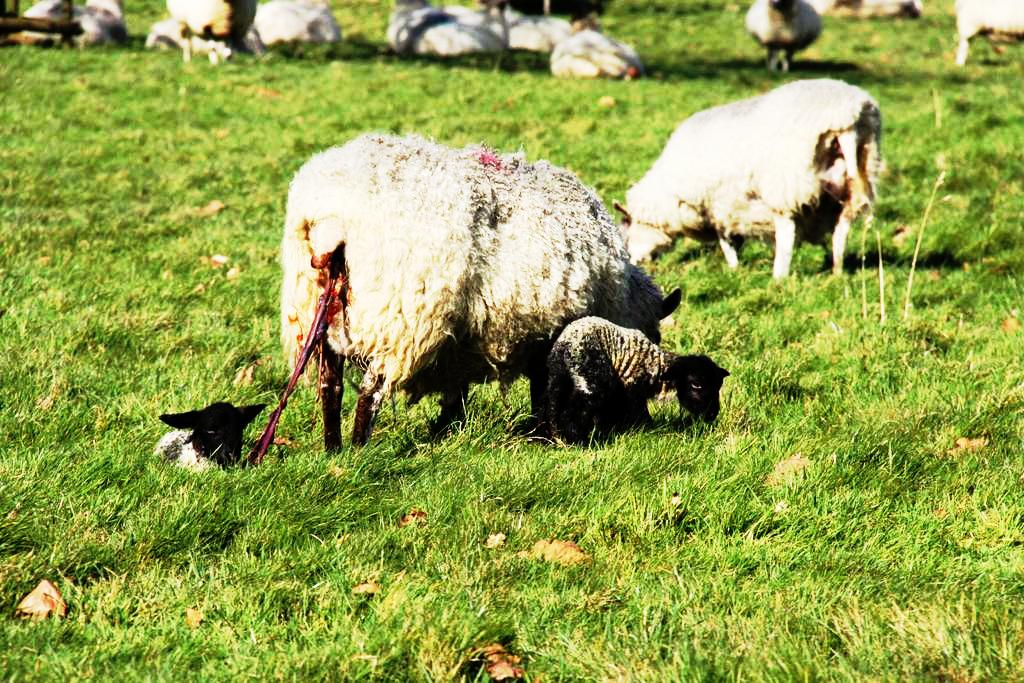Sheep: (283, 136, 682, 456), (609, 80, 883, 278), (540, 315, 729, 440), (152, 398, 268, 472), (160, 0, 266, 70), (383, 0, 507, 59), (741, 0, 829, 78), (242, 0, 339, 69), (943, 0, 1024, 68)
